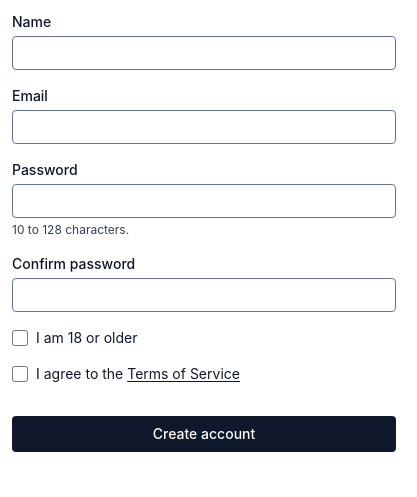
SignupForm › when the confirm password differs › blocks submit with a mismatch error
Type "Ada" into the field labelled "Name" at (204, 53), box [12,36,396,70]
Type "ada@example.com" into the field labelled "Email" at (204, 127), box [12,110,396,144]
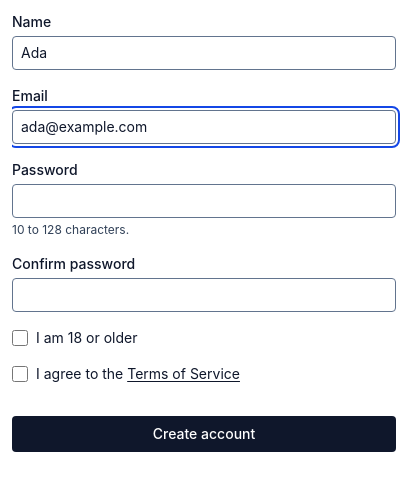
Type "longenough1" into the password field labelled "Password" at (204, 201), box [12,184,396,218]
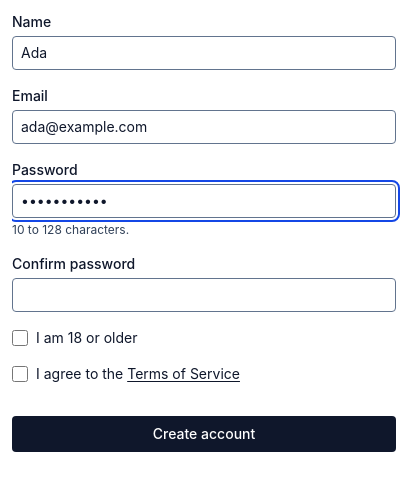
Type "different123" into the password field labelled "Confirm password" at (204, 295), box [12,278,396,312]
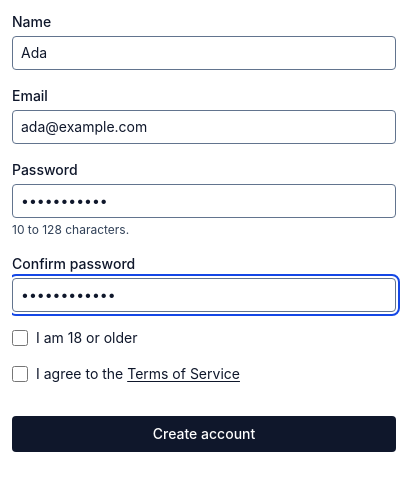
Click the checkbox labelled "I am 18 or older" at (20, 338), box [12,330,28,346]
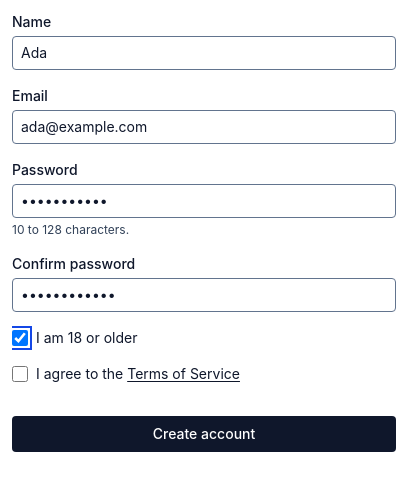
Click the checkbox labelled "I agree to the Terms of Service" at (20, 374), box [12,366,28,382]
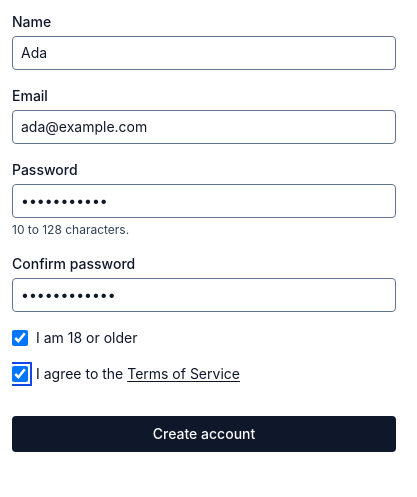
Click the button "Create account" at (204, 434), box [12,416,396,452]
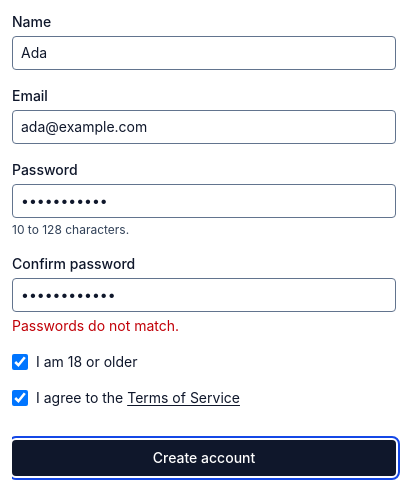
expect the text "Passwords do not match." is shown: met, box [12,317,179,334]
